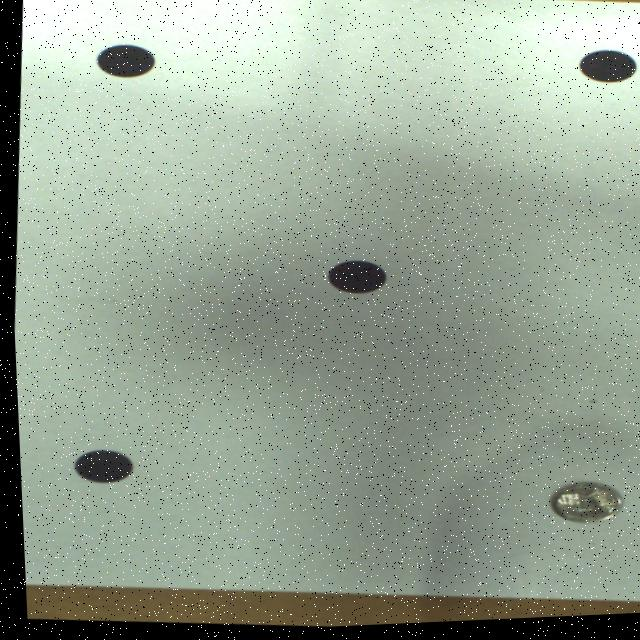head1bath: (544, 487, 616, 528)
space: (70, 450, 128, 484), (95, 45, 154, 78), (325, 263, 382, 296), (577, 55, 633, 88)
